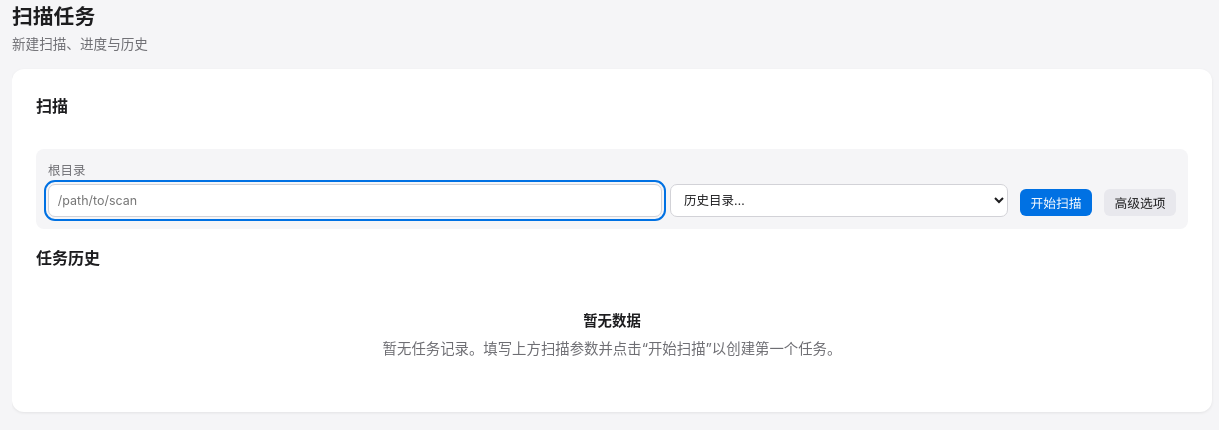
Test: ScanJobsPage scan defaults › fills the root from the registered-directory dropdown
This screenshot has width=1219, height=430.
Step 1. Select "nas-industry · /Volumes/archive/F.industry" in the dropdown named "选择已登记目录" → x=839, y=201, box [670,184,1008,217]
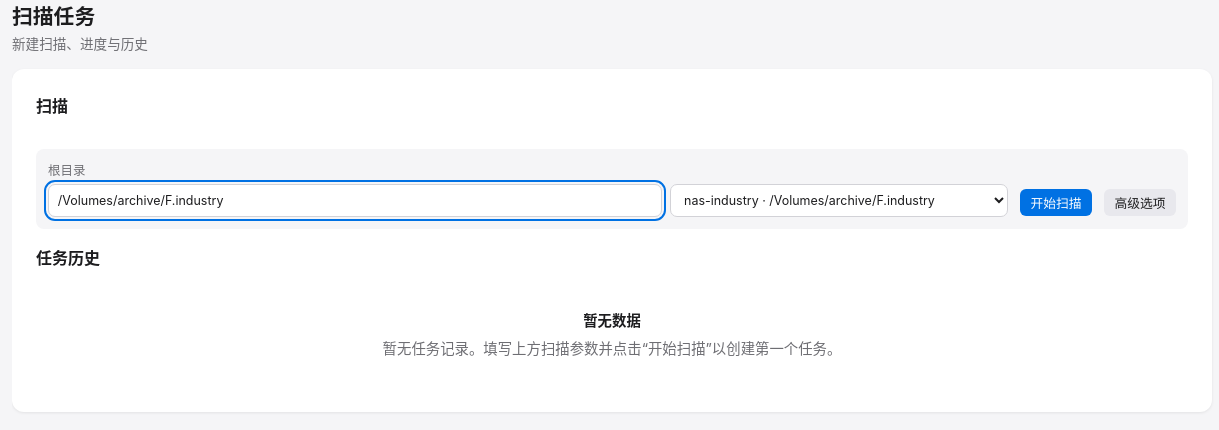
Expected: the field labelled "根目录" holds "/Volumes/archive/F.industry", [48,184,662,217]
